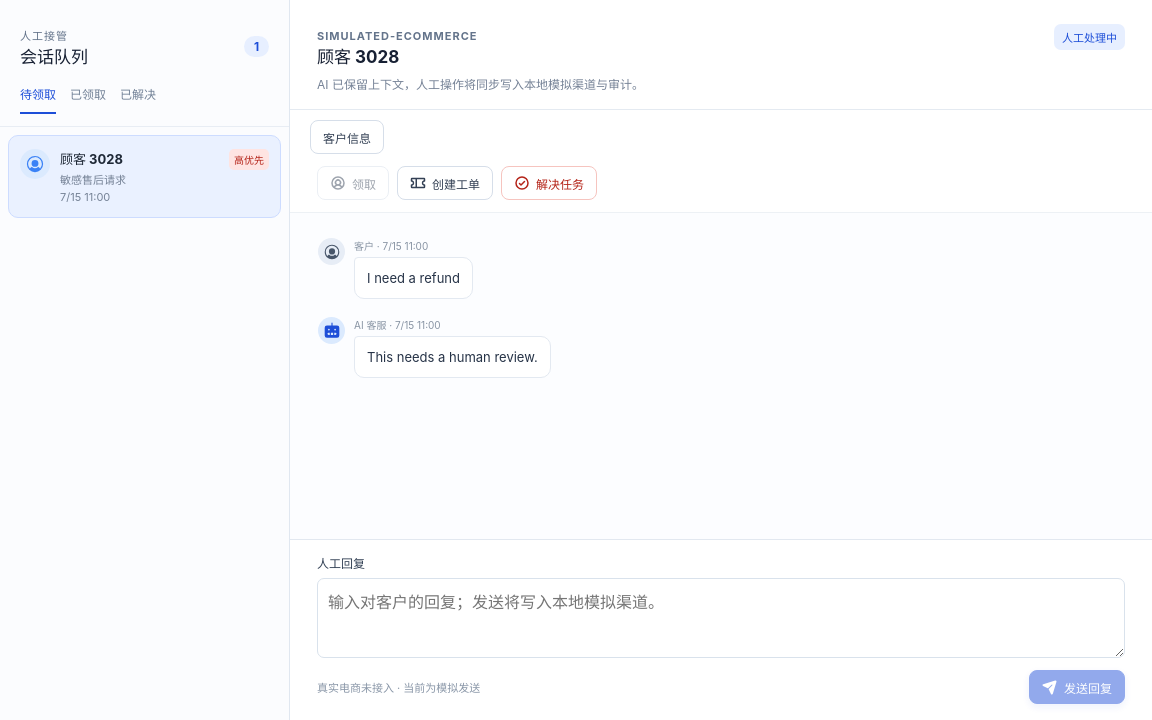
Test: keeps a resolved conversation visible in the resolved queue
This screenshot has width=1152, height=720.
Expected: the text "顾客 3028" is shown, [60,151,123,167]
What coordinates should you click on to do the following:
click the button "解决任务"
I would click on:
 (549, 183)
Its box is [501,166,597,200].
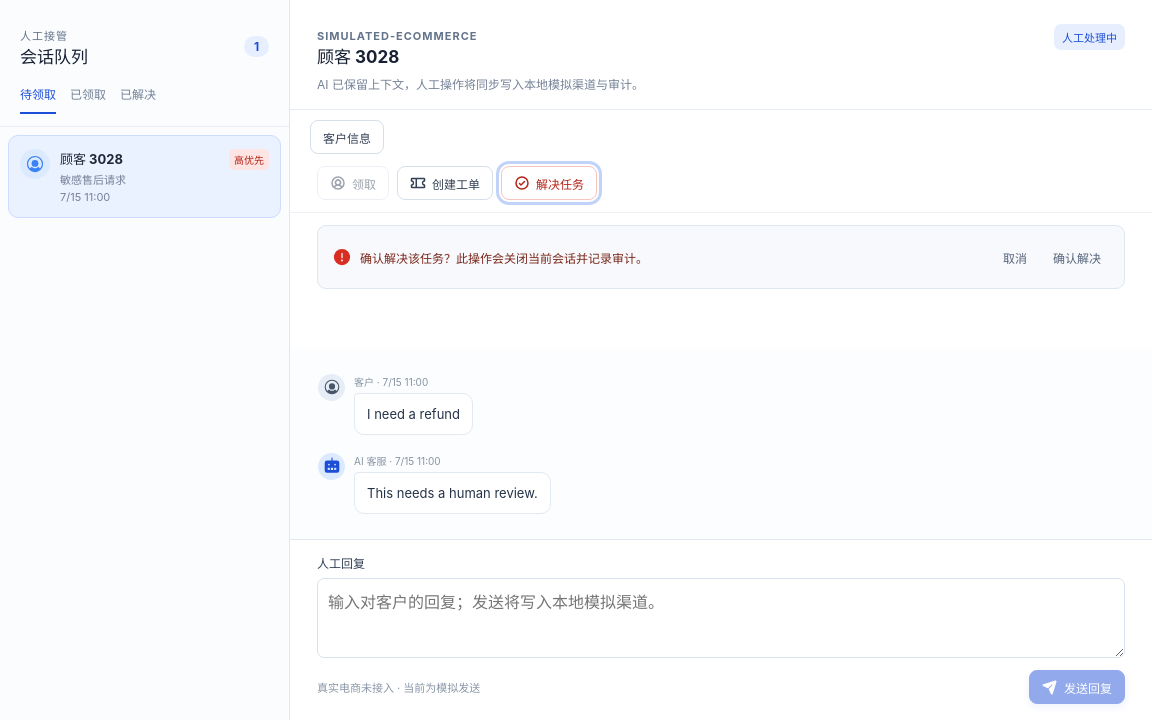
What coordinates should you click on to do the following:
click the button "确认解决"
I would click on:
 (1077, 257)
Its box is [1044,240,1110,274].
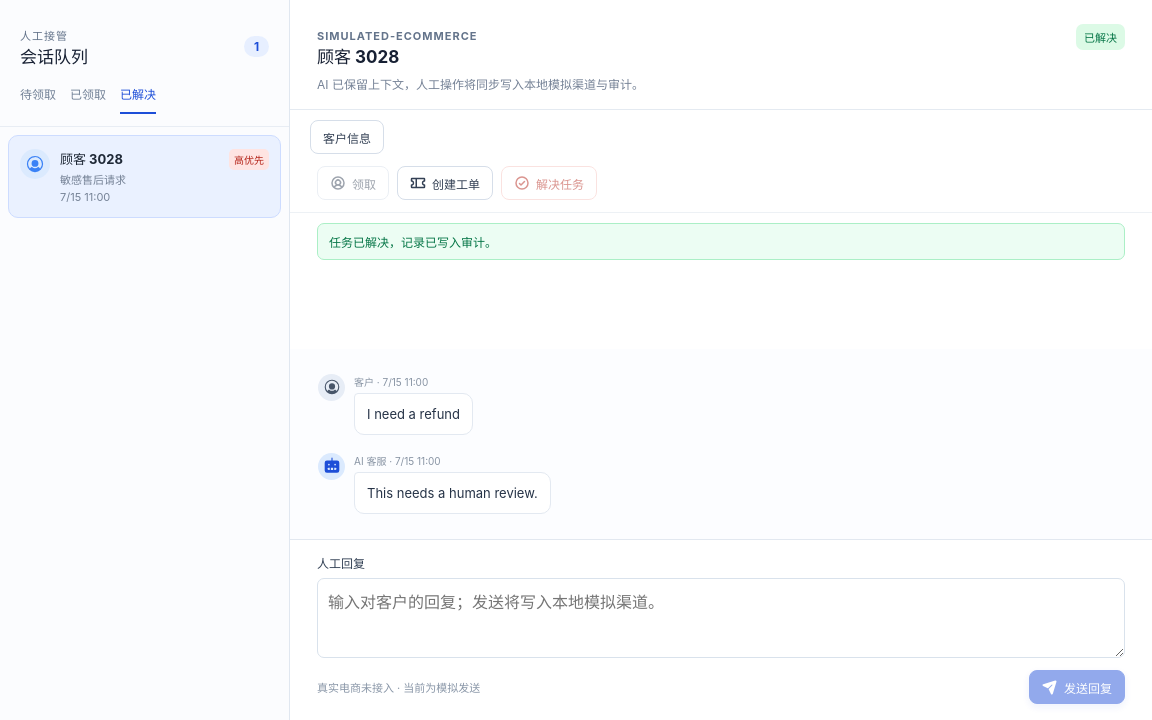
Expected: the text box labelled "人工回复" is disabled, [317,578,1125,658]
Expected: the text "已解决" is shown, [1076,24,1125,50]
